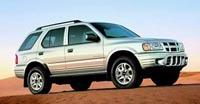Car: (16, 8, 192, 102)
